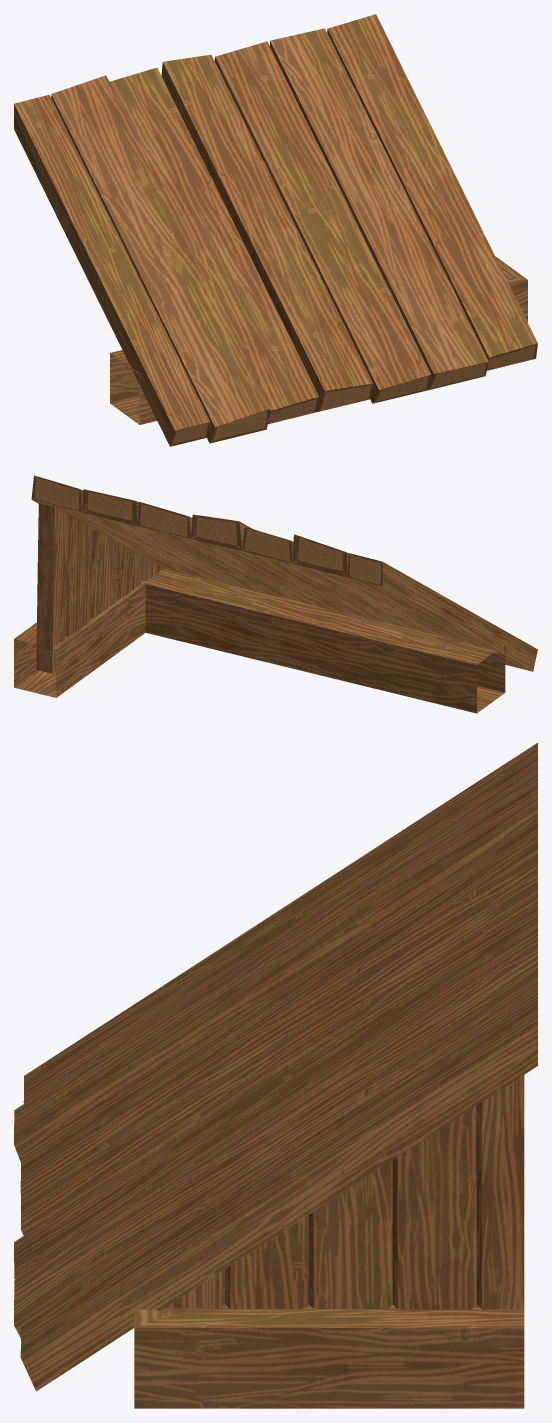
File: Roof_Wooden_2x1_R.gltf
3 renders of one model, top to bottom at view 1: azimuth 30°, elevation 25°; view 2: azimuth 150°, elevation 25°; view 3: azimuth 270°, elevation 25°, orthographic. The views are drawn at different scales.
Visible parts, largest first — view 1: Roof_Wooden_2x1_R; view 2: Roof_Wooden_2x1_R; view 3: Roof_Wooden_2x1_R.
Part boxes in pixels (bbox=[...]): Roof_Wooden_2x1_R: bbox=[14, 14, 537, 446]; Roof_Wooden_2x1_R: bbox=[14, 475, 537, 713]; Roof_Wooden_2x1_R: bbox=[14, 742, 537, 1408].
Size of the model in its own units: 2.13 by 1.25 by 1.56.
2 materials, 2 textured.
